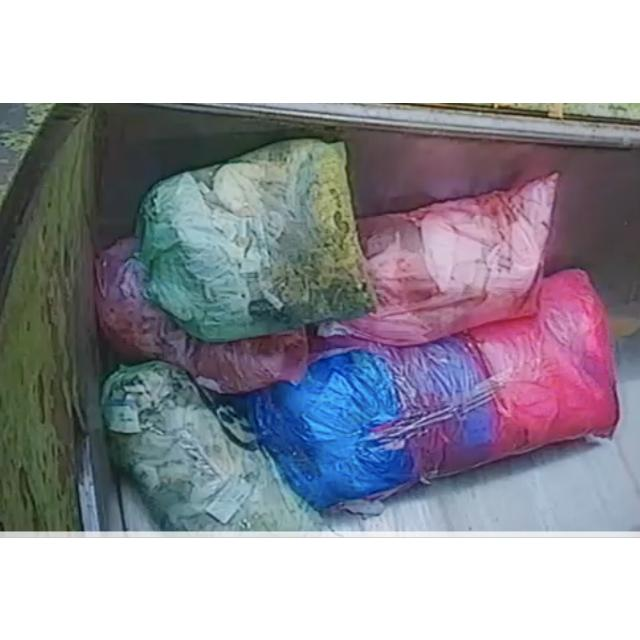general_trashbag: (136, 138, 374, 341), (101, 361, 320, 530)
other_trashbag: (246, 268, 619, 508), (342, 172, 559, 344), (95, 237, 309, 393)
